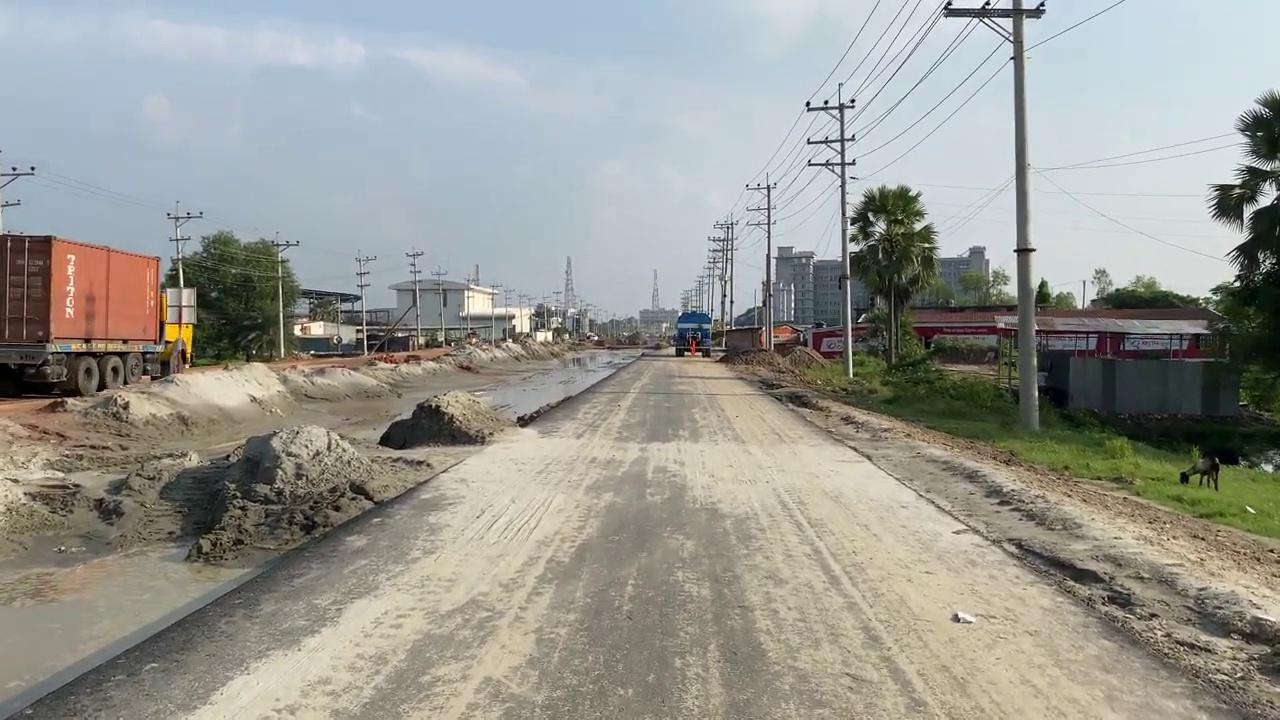Animal: (1178, 454, 1220, 491)
Pole: (805, 81, 857, 377), (1010, 2, 1040, 432)
Sidewalk: (1, 345, 642, 717)
Traffic-sign: (847, 182, 940, 369)
Tree: (0, 230, 197, 397), (677, 311, 716, 358)
Upstairs: (1041, 351, 1241, 418)
